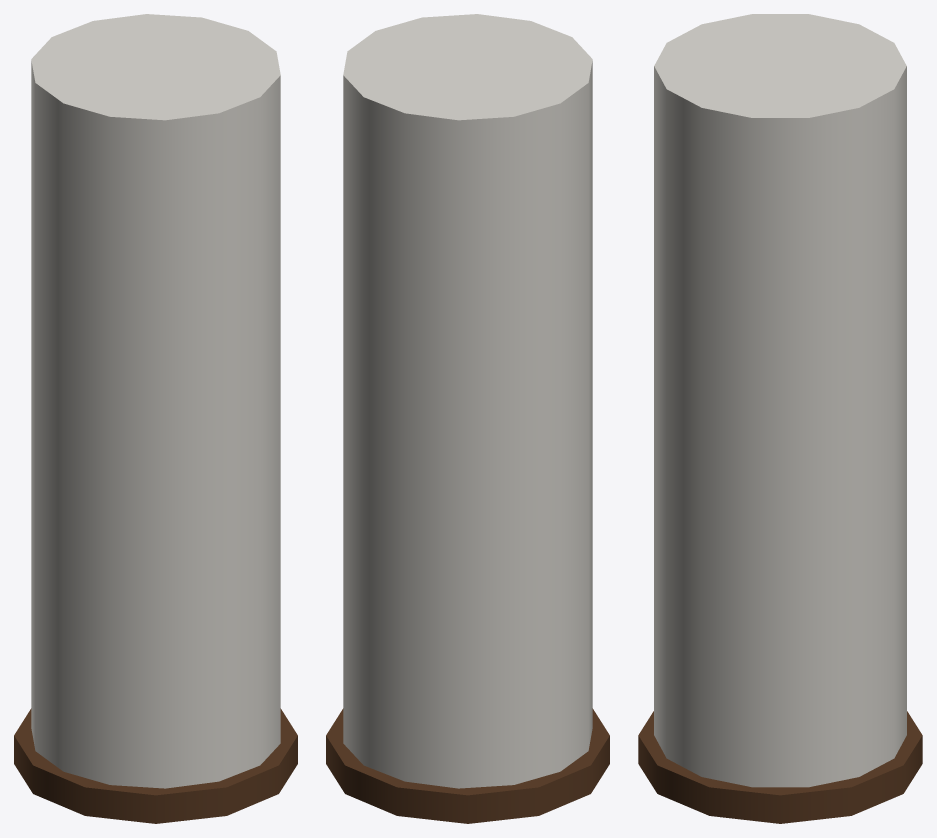
File: kitchen-bits.glb
The picture shows the model from 3 angles, left to right: view 1: azimuth 30°, elevation 25°; view 2: azimuth 150°, elevation 25°; view 3: azimuth 270°, elevation 25°; orthographic projection.
Size of the model in its own units: 0.36 by 0.975 by 0.36.
